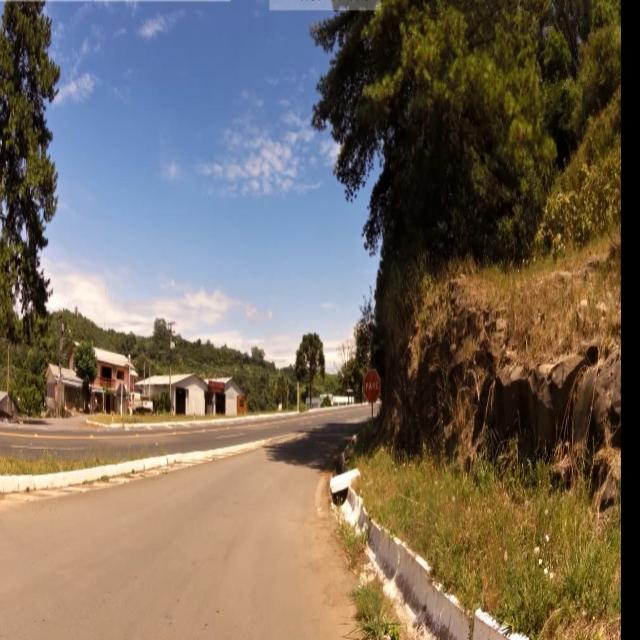R-1: (362, 367, 383, 410)
